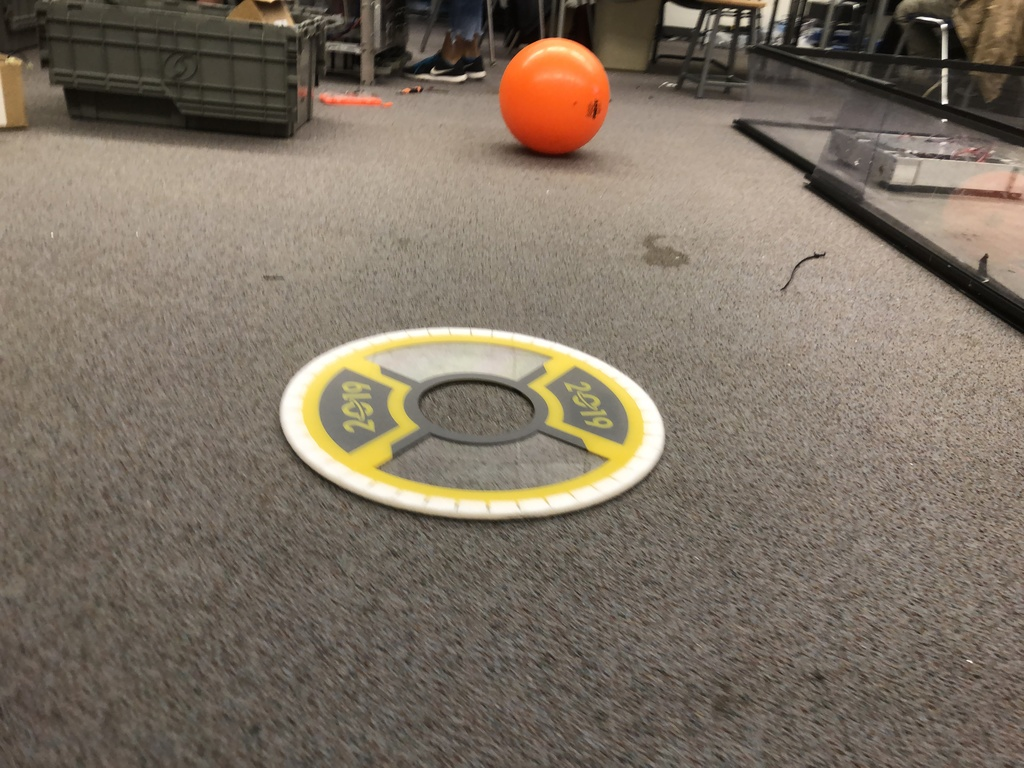hatch_panel: (275, 315, 693, 536)
